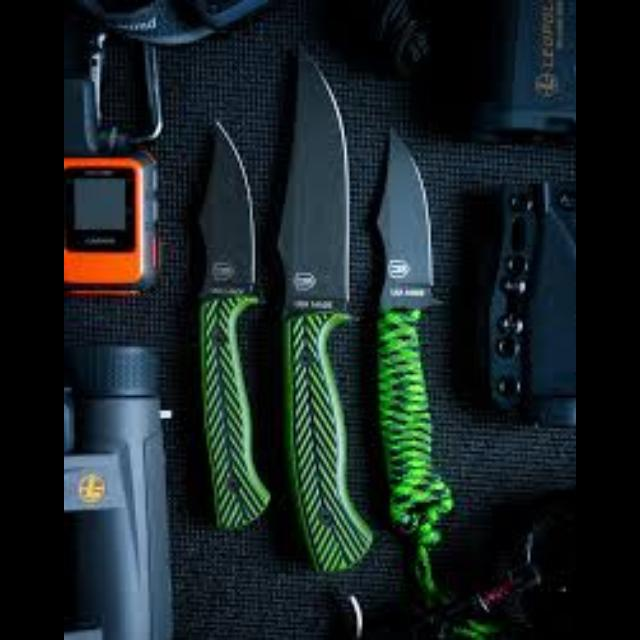knife: (276, 41, 372, 571), (372, 124, 453, 612), (194, 118, 270, 530)
